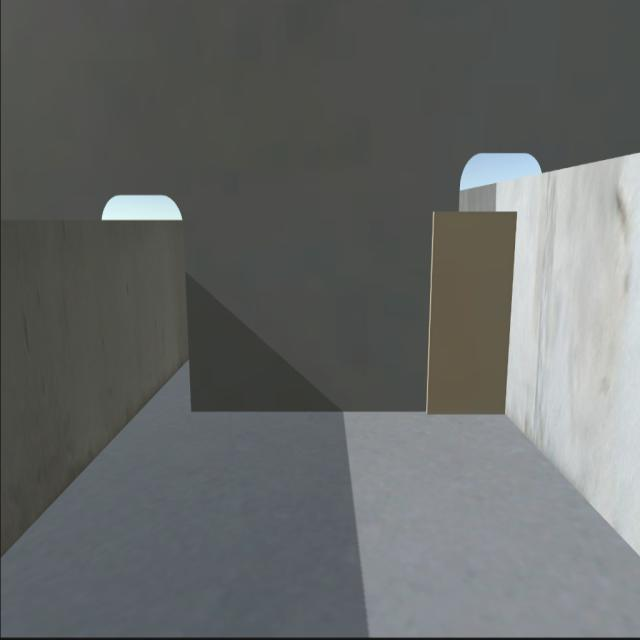fillet_yong_jeop_jang: (189, 408, 506, 424)
longi_yong_jeop_jang: (496, 207, 528, 425)
plate_CP01: (432, 204, 508, 422)
